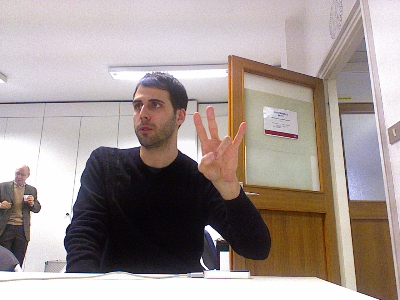观音: (191, 104, 247, 184)
